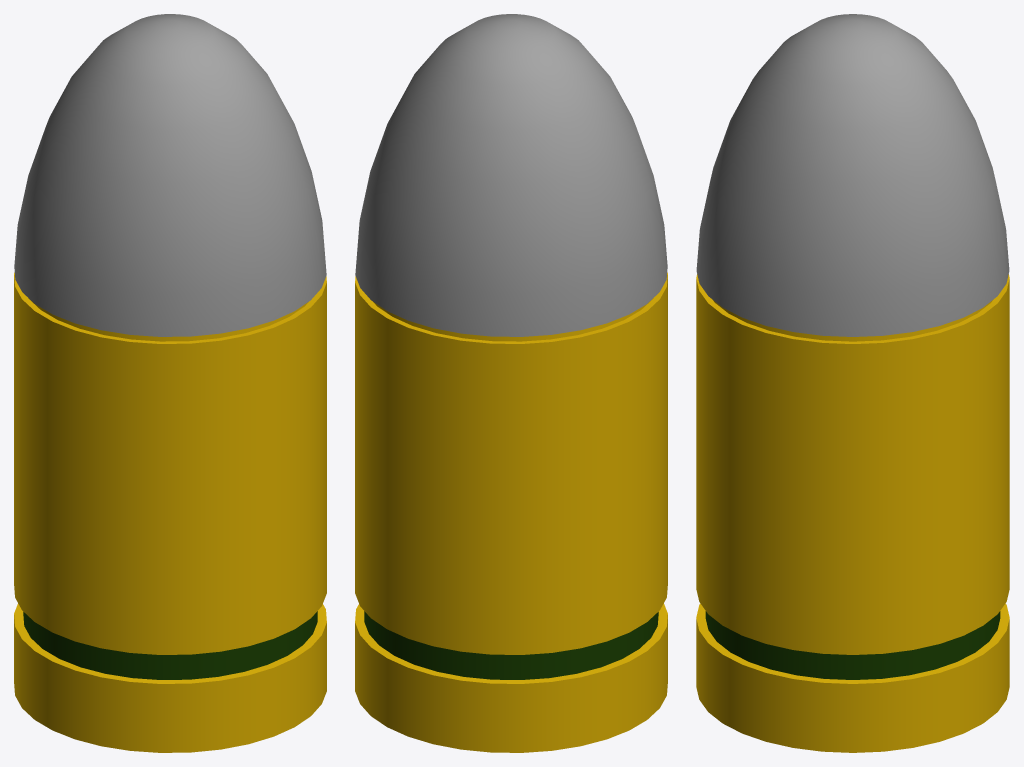
The model's file is Bullet.fbx.
The picture shows the model from 3 angles, left to right: view 1: azimuth 30°, elevation 25°; view 2: azimuth 150°, elevation 25°; view 3: azimuth 270°, elevation 25°; orthographic projection.
Parts seen in each view (by area): view 1: Cylinder; view 2: Cylinder; view 3: Cylinder.
Part boxes in pixels (<box>): Cylinder: <box>14,14,326,752</box>; Cylinder: <box>355,14,667,752</box>; Cylinder: <box>696,14,1009,752</box>.
Bounding box in the file's own units: 93.54 × 220 × 93.54.
